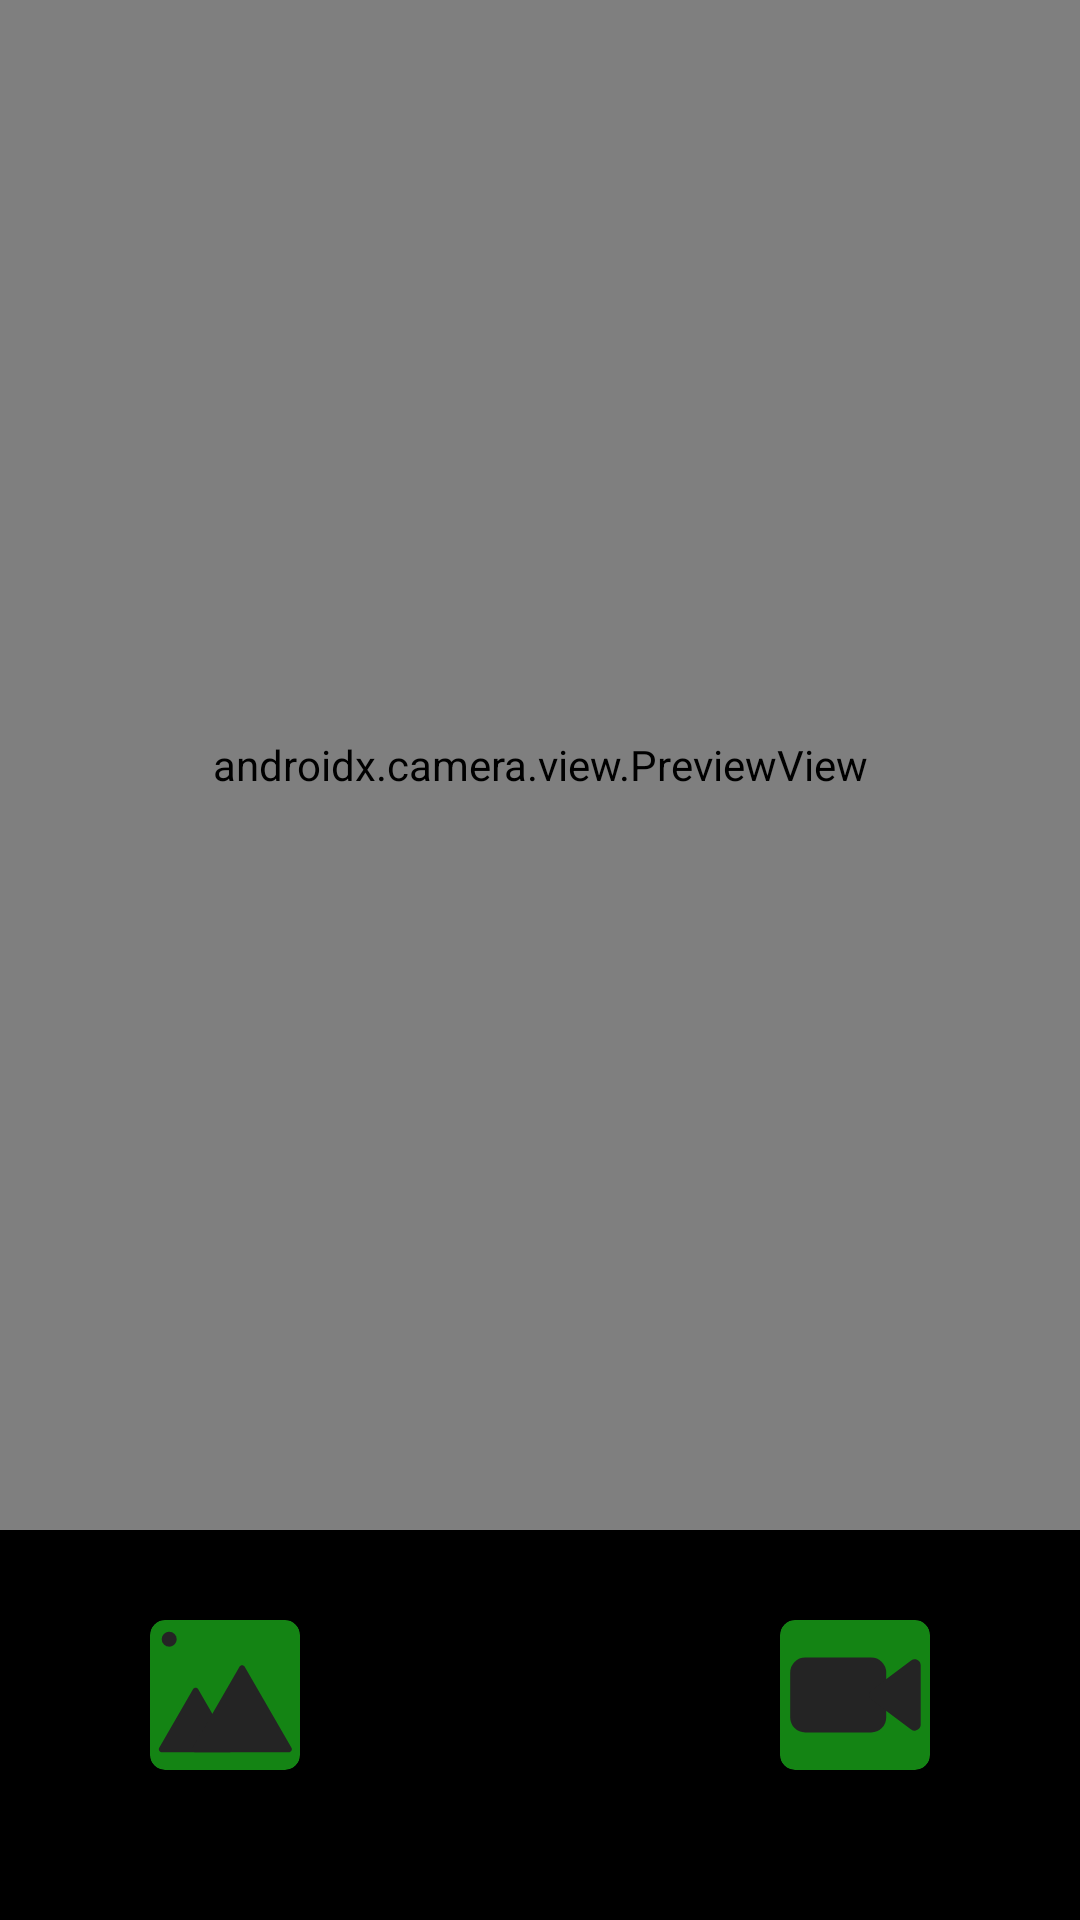

Icons on this 1080 x 1920 Android screen, each with the point to tap as point (x, y):
video: point (855, 1695)
